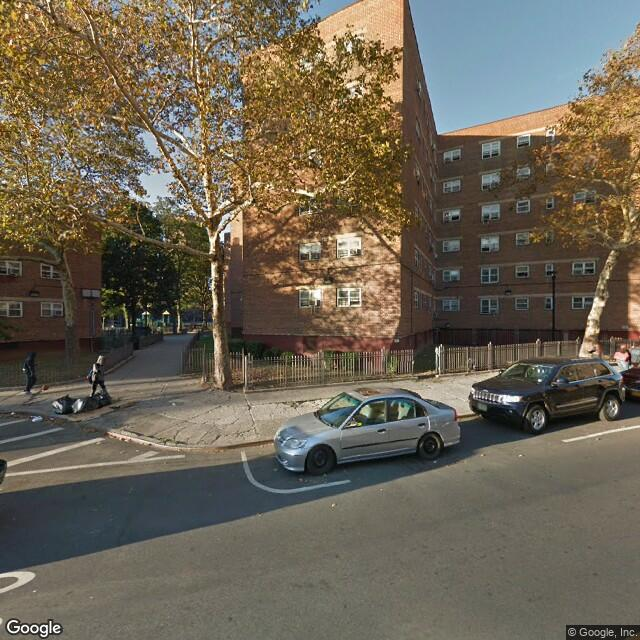litter: (32, 415, 44, 423), (11, 410, 17, 413), (171, 403, 173, 404)
